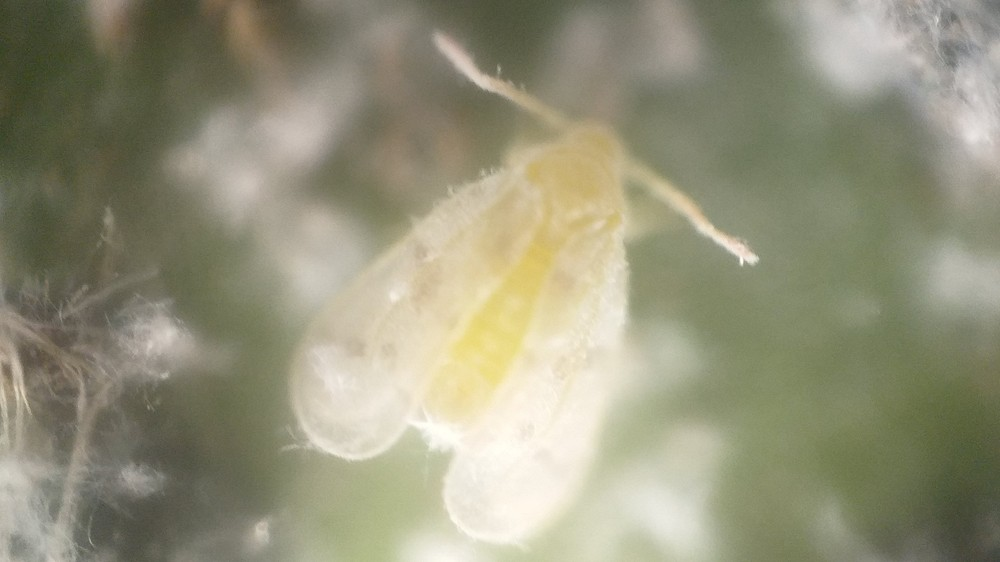Mosca Blanca: (279, 28, 765, 558)
